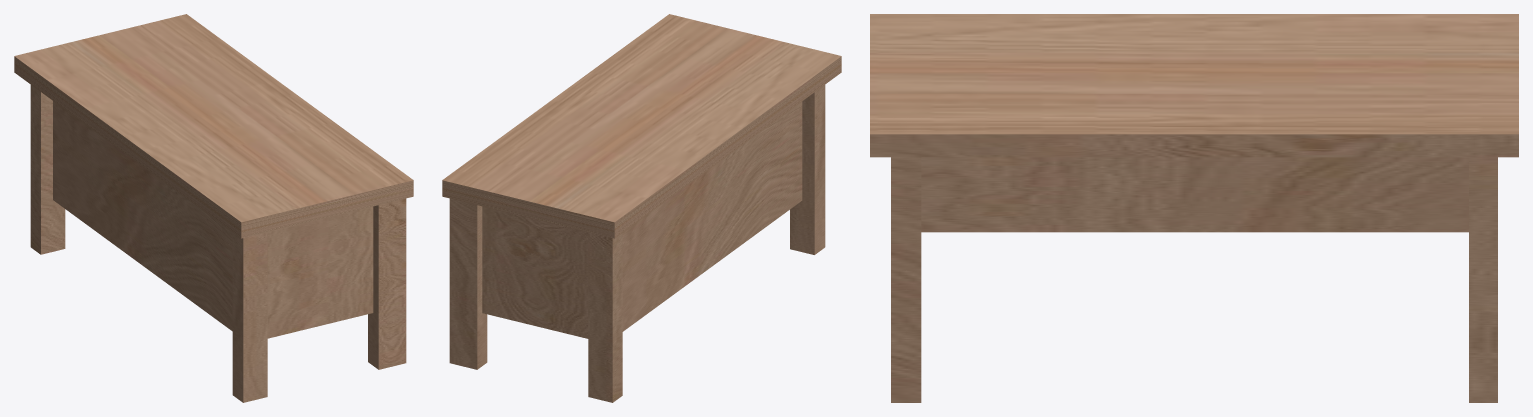
The model's file is MEJAGURU.glb.
3 views of the same model, side by side, from view 1: azimuth 30°, elevation 25°; view 2: azimuth 150°, elevation 25°; view 3: azimuth 270°, elevation 25° (orthographic). The views are drawn at different scales.
Parts seen in each view (by area): view 1: meja guru; view 2: meja guru; view 3: meja guru.
Boxes of the visible parts, left/top/right/bottom form: meja guru: left=14, top=14, right=413, bottom=402; meja guru: left=442, top=14, right=841, bottom=402; meja guru: left=870, top=14, right=1518, bottom=402.
Bounding box in the file's own units: 12.47 × 13.01 × 28.46.
1 material, 1 textured.
